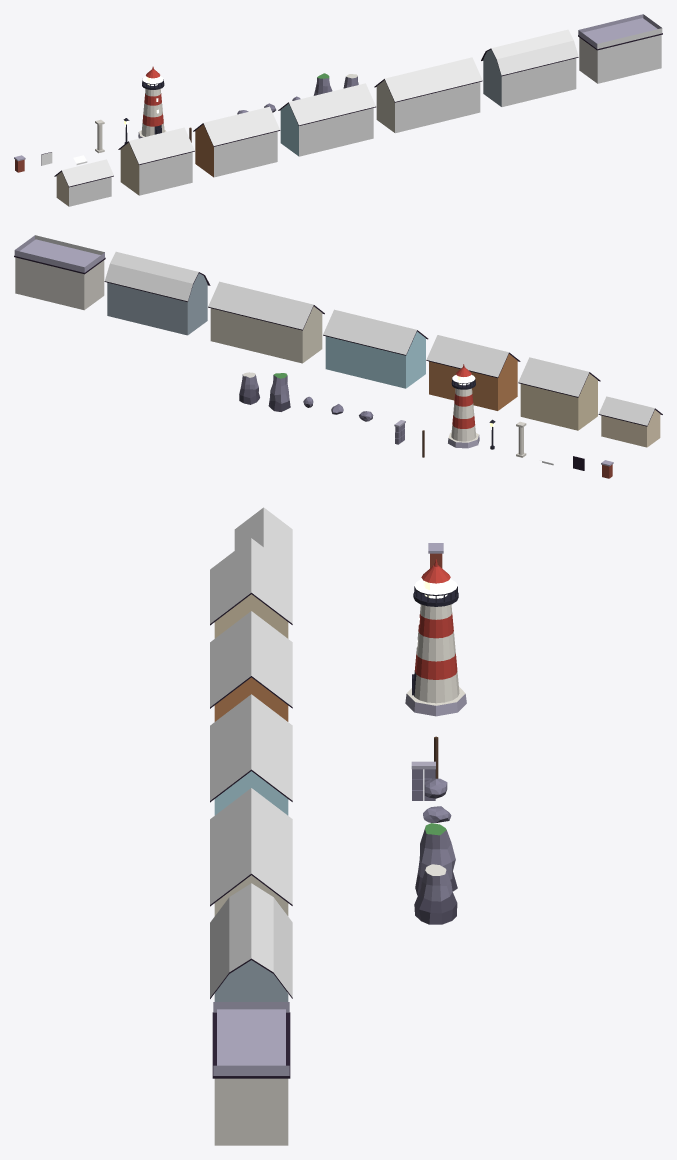
File: gullhaven_kit.glb
3 renders of one model, top to bottom at view 1: azimuth 30°, elevation 25°; view 2: azimuth 150°, elevation 25°; view 3: azimuth 270°, elevation 25°, orthographic. The views are drawn at different scales.
Parts seen in each view (by area): view 1: gable_8x3, barn_7x3, gable_7x3, flat_6x3, gable_6x3, gable_5x3, gable_4x2, lighthouse; view 2: gable_8x3, barn_7x3, gable_7x3, flat_6x3, gable_6x3, gable_5x3, gable_4x2, lighthouse, stack_a, stack_b; view 3: flat_6x3, barn_7x3, gable_8x3, gable_7x3, gable_6x3, lighthouse, gable_5x3, stack_b, gable_4x2, stack_a.
Boxes of the visible parts, x1,y1,x2,y2 form: gable_8x3: (374, 57, 482, 133); barn_7x3: (481, 29, 578, 106); gable_7x3: (278, 83, 375, 156); flat_6x3: (578, 14, 662, 83); gable_6x3: (193, 106, 280, 177); gable_5x3: (118, 127, 194, 195); gable_4x2: (54, 159, 113, 206); lighthouse: (138, 66, 166, 138); gable_8x3: (208, 281, 324, 363); barn_7x3: (104, 251, 210, 335); gable_7x3: (323, 309, 428, 388); flat_6x3: (14, 235, 105, 310); gable_6x3: (426, 335, 520, 410); gable_5x3: (518, 357, 600, 430); gable_4x2: (598, 396, 662, 447); lighthouse: (448, 364, 479, 448); stack_a: (268, 373, 290, 411); stack_b: (239, 372, 259, 404); flat_6x3: (212, 1002, 290, 1145); barn_7x3: (210, 883, 292, 1001); gable_8x3: (210, 788, 292, 915); gable_7x3: (210, 694, 292, 815); gable_6x3: (210, 611, 292, 721); lighthouse: (405, 559, 466, 716); gable_5x3: (210, 538, 292, 638); stack_b: (414, 864, 457, 924); gable_4x2: (234, 507, 292, 568); stack_a: (415, 823, 457, 895).
Size of the model in its own units: 55.45 by 8.55 by 10.43.
